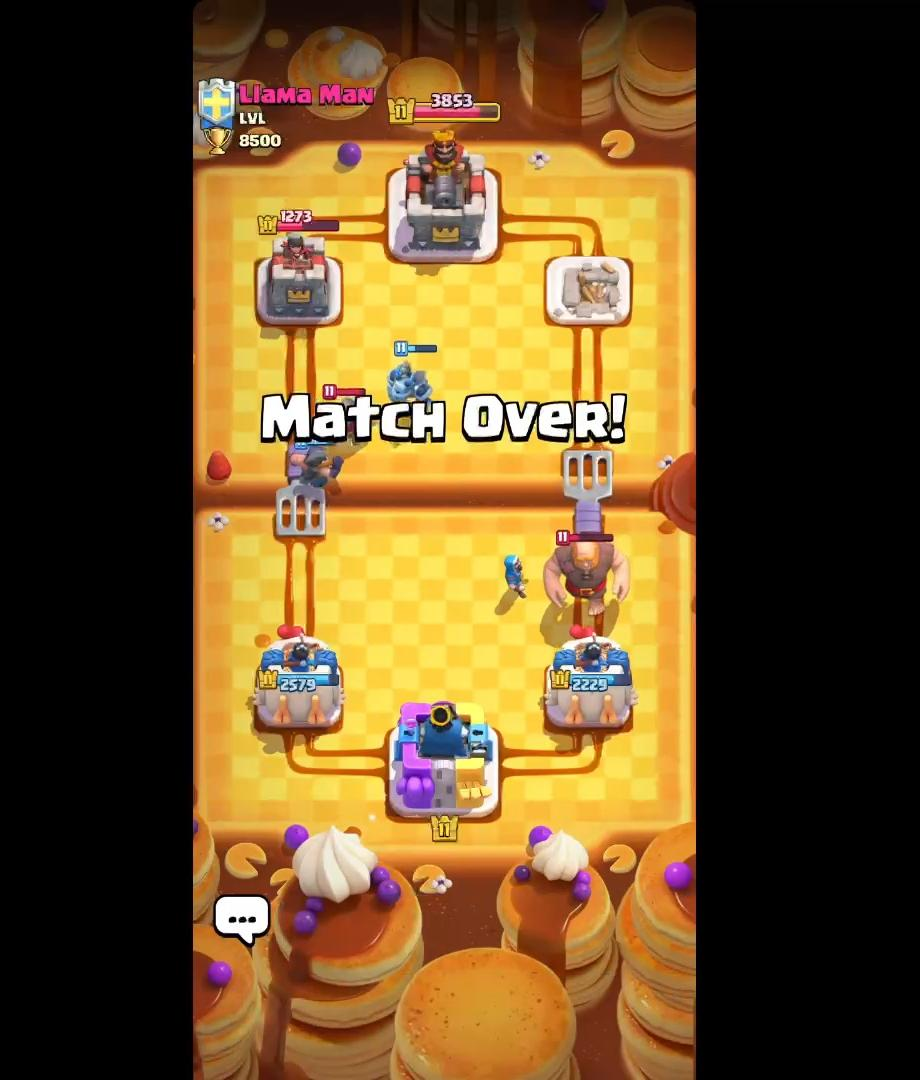Giant: (546, 526, 631, 631)
